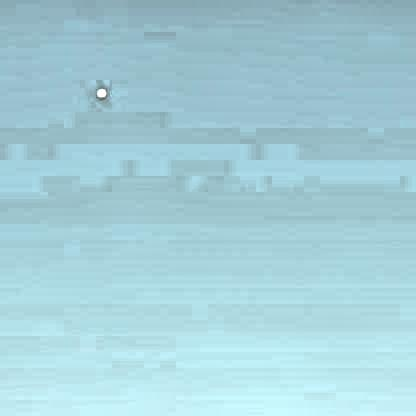golfball: (93, 84, 105, 98)
